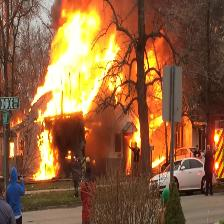fire: (53, 25, 95, 108), (32, 132, 62, 179), (101, 44, 113, 63)
